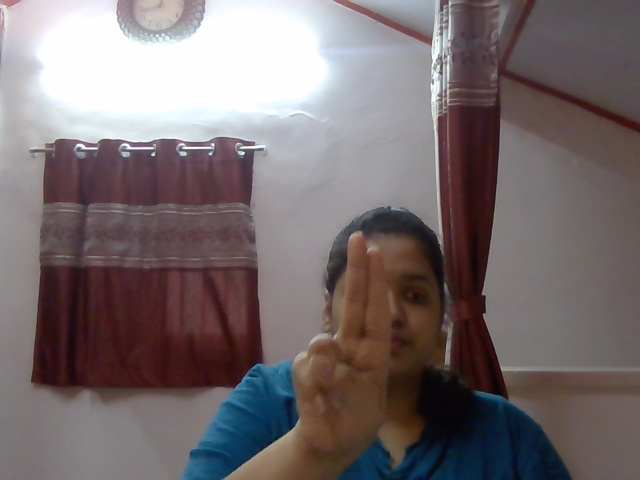u: (271, 221, 421, 466)
